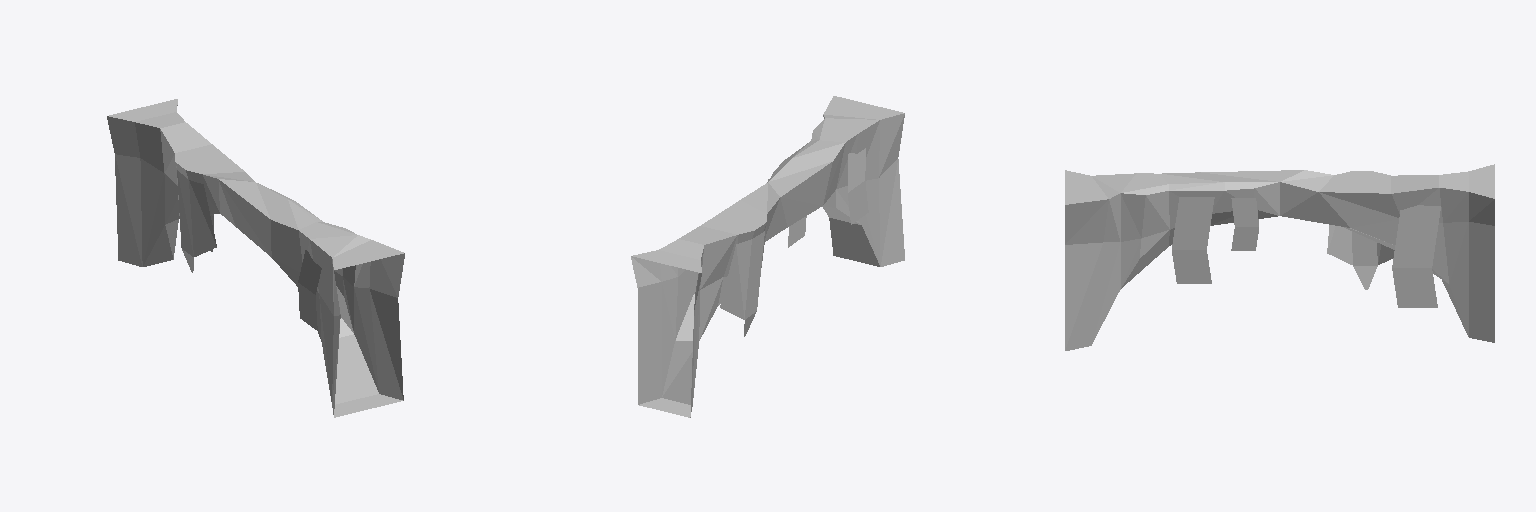
File: mountainBridge_01.obj
The picture shows the model from 3 angles: view 1: azimuth 30°, elevation 25°; view 2: azimuth 150°, elevation 25°; view 3: azimuth 270°, elevation 25°; orthographic projection.
Visible parts, largest first — view 1: pCube2; view 2: pCube2; view 3: pCube2.
Part boxes in pixels (left/top/right/bottom): pCube2: left=107, top=99, right=404, bottom=417; pCube2: left=631, top=96, right=904, bottom=417; pCube2: left=1065, top=164, right=1494, bottom=350.
Size of the model in its own units: 1.53 by 2.66 by 6.82.